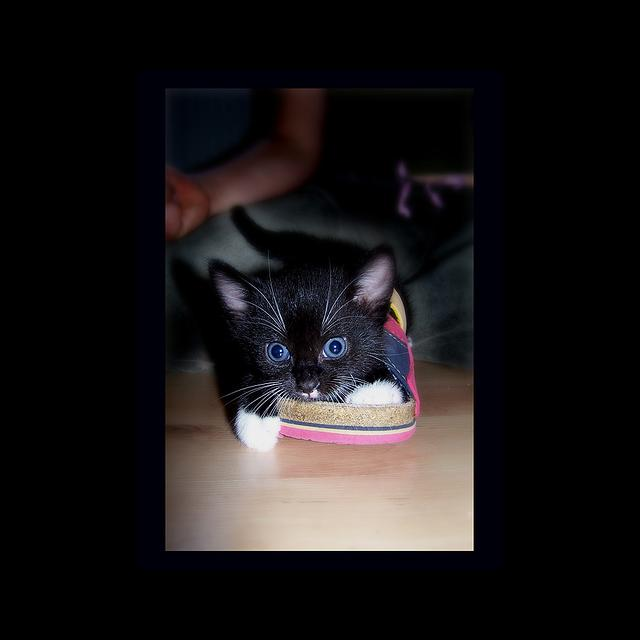animals: (212, 245, 388, 392)
